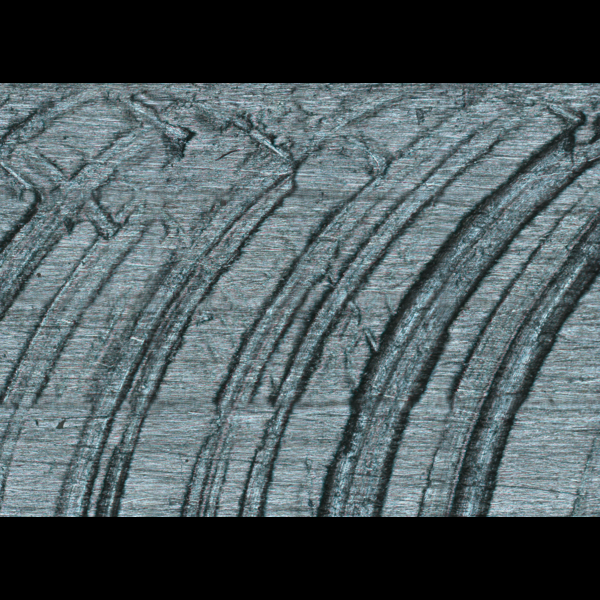d: (0, 83, 595, 511)
